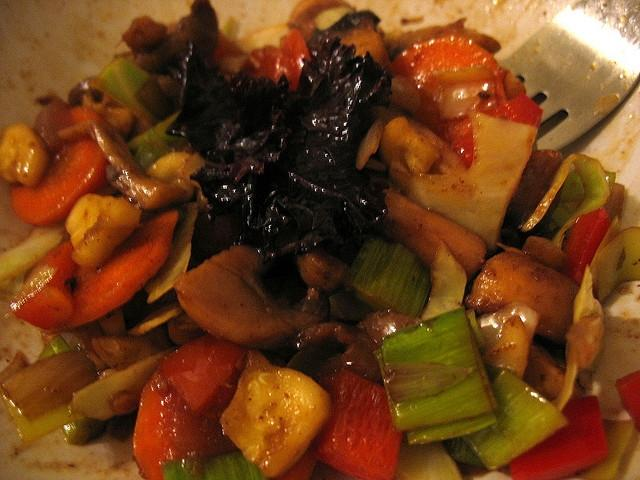carrot: (50, 204, 178, 330), (132, 367, 242, 480), (376, 184, 488, 284), (10, 138, 110, 226), (510, 395, 610, 480), (10, 240, 80, 330), (390, 36, 501, 90), (561, 206, 611, 286), (616, 370, 640, 434)
